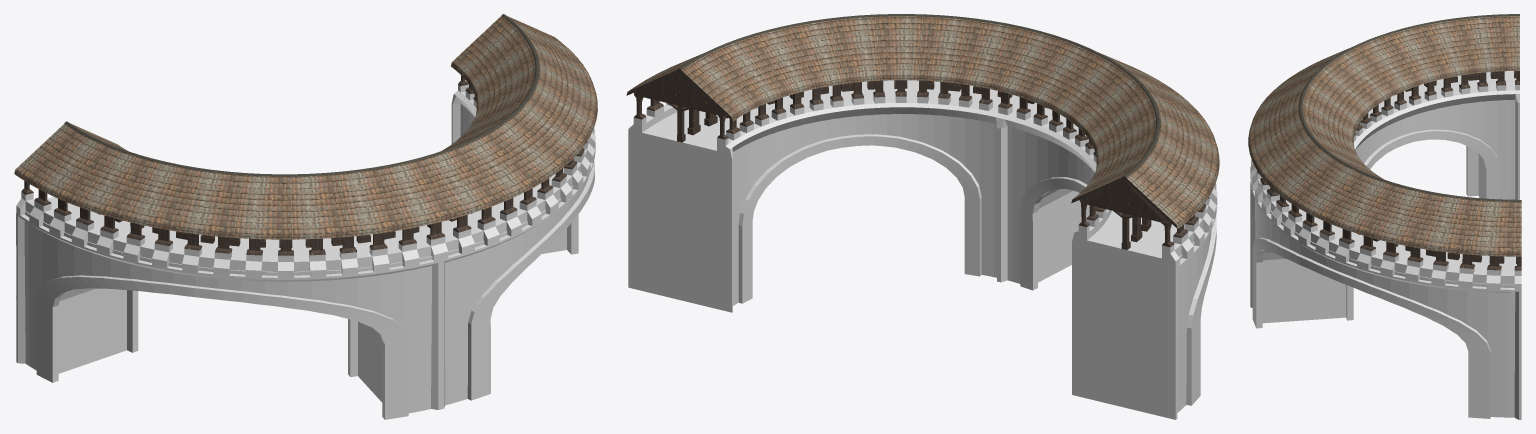
The model's file is Bridge-6.fbx.
3 renders of one model, left to right at view 1: azimuth 30°, elevation 25°; view 2: azimuth 150°, elevation 25°; view 3: azimuth 270°, elevation 25°, orthographic. The views are drawn at different scales.
Parts seen in each view (by area): view 1: FIx Stlpy.002; view 2: FIx Stlpy.002; view 3: FIx Stlpy.002.
Part boxes in pixels (box(x1,y1,x2,y2)): FIx Stlpy.002: box(14, 14, 597, 419); FIx Stlpy.002: box(626, 14, 1219, 419); FIx Stlpy.002: box(1248, 14, 1521, 419).
Size of the model in its own units: 5704 by 2293 by 2862.
